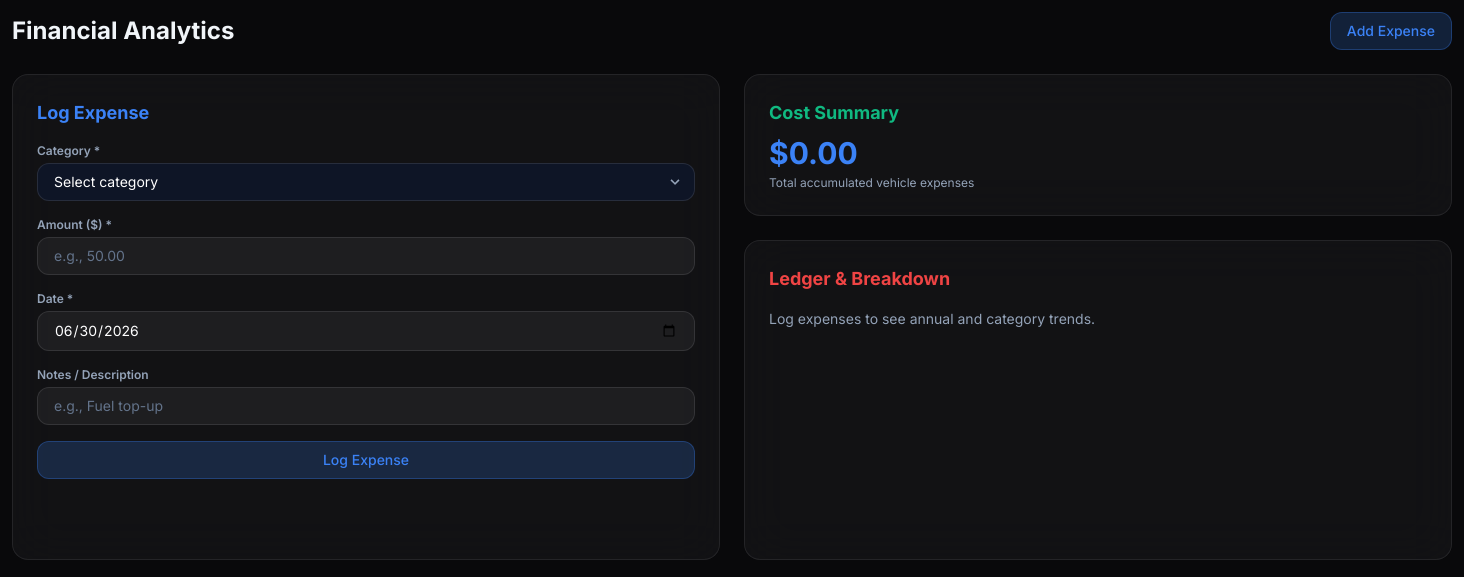
Scenario: FinanceView Unit Tests › Normal (Inline) Expense Logging › shows error when required fields are missing on submit
Submit form with empty fields
Click the button "Log Expense".
click(366, 460)  # box [37,441,695,479]
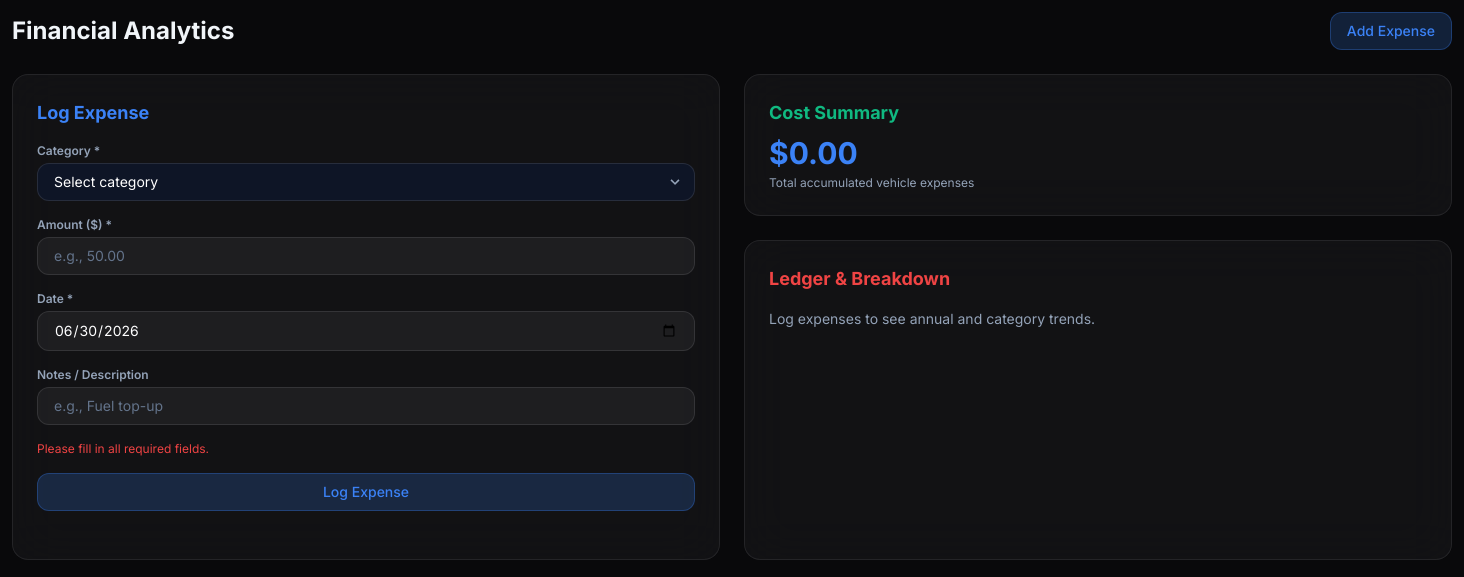
Check: the text "Please fill in all required fields." is shown, box [37,441,209,456]
